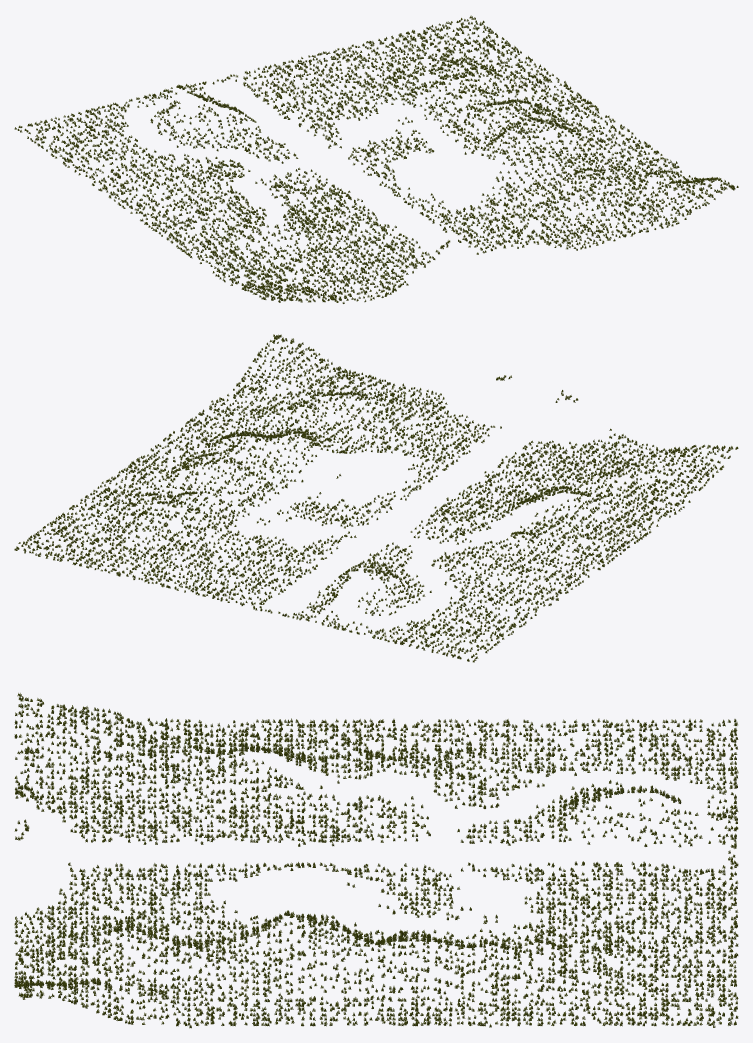
Rendered from WildernessGrass.glb.
3 renders of one model, top to bottom at view 1: azimuth 30°, elevation 25°; view 2: azimuth 150°, elevation 25°; view 3: azimuth 270°, elevation 25°, orthographic. The views are drawn at different scales.
Visible parts, largest first — view 1: Plane.14475; view 2: Plane.14475; view 3: Plane.14475.
Boxes of the visible parts, x1=… form: Plane.14475: x1=14, y1=15, x2=738, y2=303; Plane.14475: x1=14, y1=334, x2=738, y2=662; Plane.14475: x1=14, y1=693, x2=738, y2=1028.
Bounding box in the file's own units: 160 × 13.94 × 159.
1 material, 1 textured.
